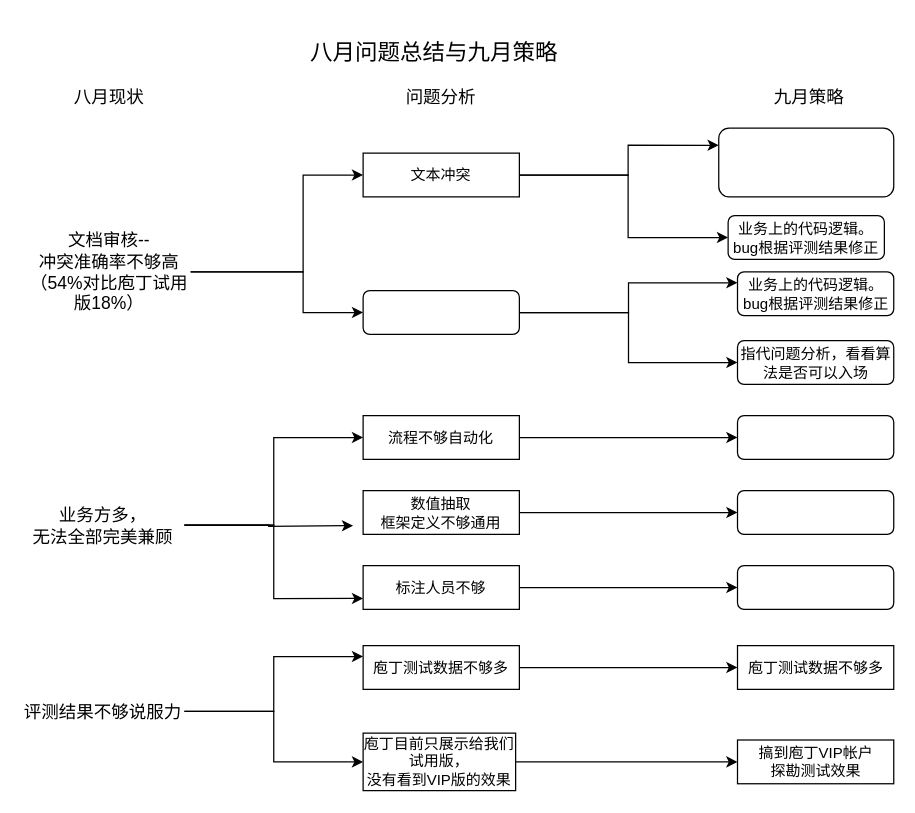
This 915x813 diagram has some shape labels left out. The centre of each missing label's shape, as x and y in pixels:
分别定义通用的数值与事件的抽取框架: pixel 815 511
尽量推进业务方标注: pixel 815 586
自动化平台集成，解放劳动力: pixel 815 436
表格冲突: pixel 440 311
错误评测数据补充闭环优化模型 算法更新创新：RL优化，focal loss等: pixel 806 162
